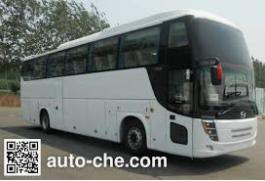bus: (21, 13, 253, 160)
